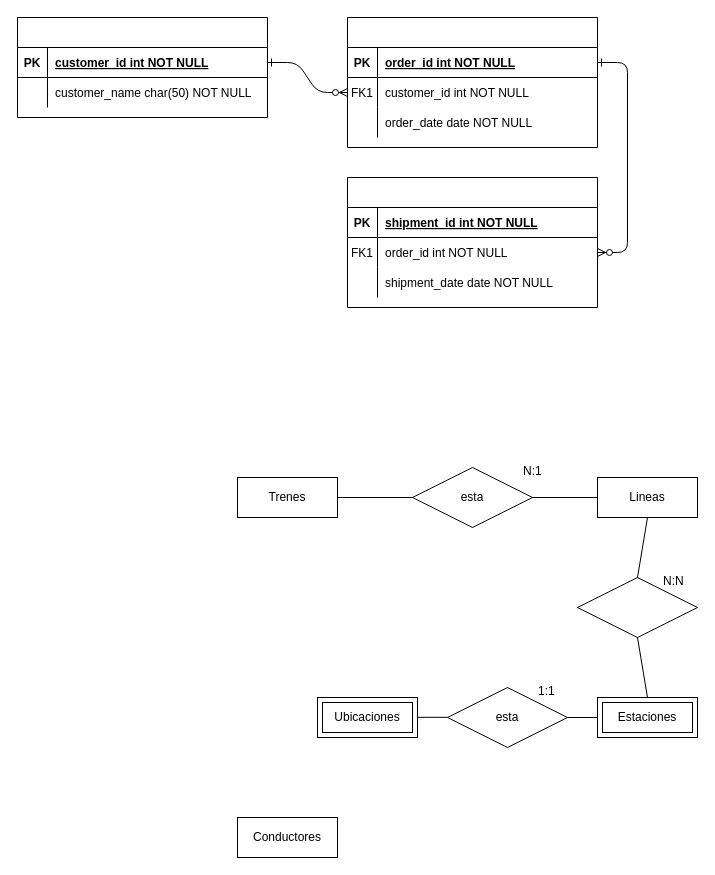
This 715x875 diagram has some shape labels left out. The box of each missing label's shape, as (x1, y1, x2, y2) in pixels:
Customers: (16, 16, 268, 118)
Orders: (346, 16, 598, 148)
Shipments: (346, 176, 598, 308)
tiene: (576, 576, 698, 638)
